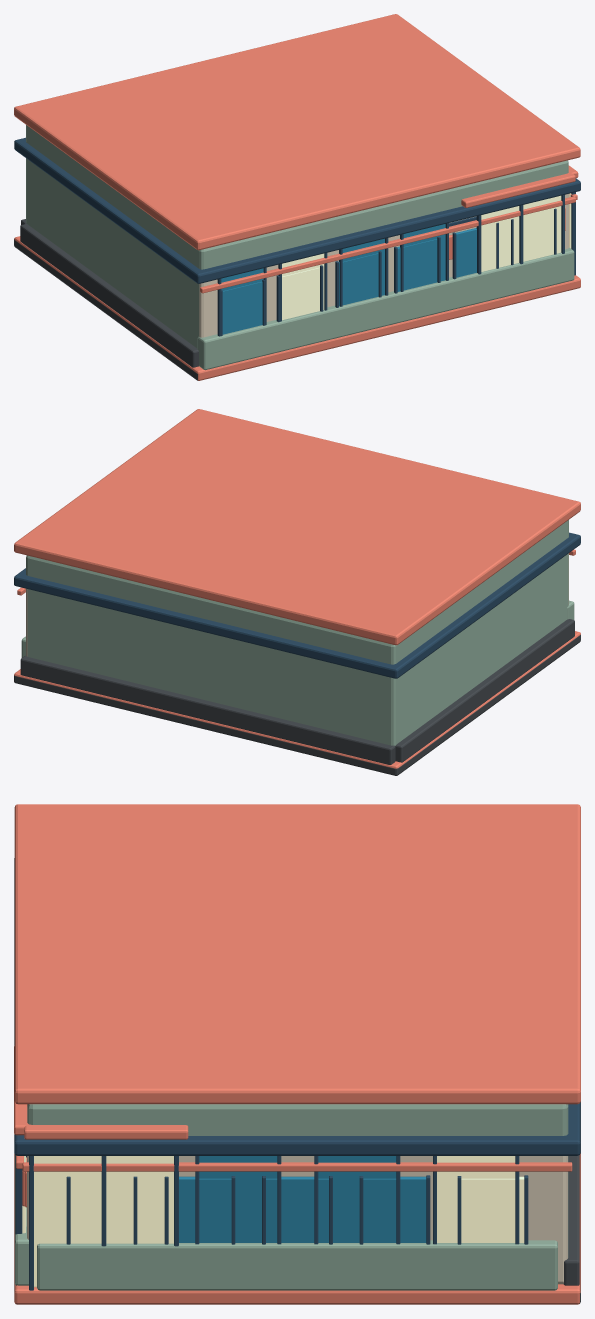
The model's file is SM_SolCity_CornerBuildingModules_01.fbx.
3 views of the same model, one above another, from view 1: azimuth 30°, elevation 25°; view 2: azimuth 150°, elevation 25°; view 3: azimuth 270°, elevation 25° (orthographic). The views are drawn at different scales.
Visible parts, largest first — view 1: SM_SolCity_CornerBase_01, SM_SolCity_CornerMiddle_01, SM_SolCity_CornerCrown_01; view 2: SM_SolCity_CornerBase_01, SM_SolCity_CornerCrown_01, SM_SolCity_CornerMiddle_01; view 3: SM_SolCity_CornerBase_01, SM_SolCity_CornerMiddle_01, SM_SolCity_CornerCrown_01.
Boxes of the visible parts, x1,y1,x2,y2 form: SM_SolCity_CornerBase_01: (14, 14, 580, 380); SM_SolCity_CornerMiddle_01: (14, 137, 580, 380); SM_SolCity_CornerCrown_01: (17, 207, 579, 379); SM_SolCity_CornerBase_01: (14, 409, 580, 775); SM_SolCity_CornerCrown_01: (20, 600, 578, 764); SM_SolCity_CornerMiddle_01: (14, 532, 580, 768); SM_SolCity_CornerBase_01: (14, 804, 580, 1303); SM_SolCity_CornerMiddle_01: (14, 858, 580, 1304); SM_SolCity_CornerCrown_01: (15, 1155, 579, 1302).
Size of the model in its own units: 12.01 by 10.01 by 4.2.
